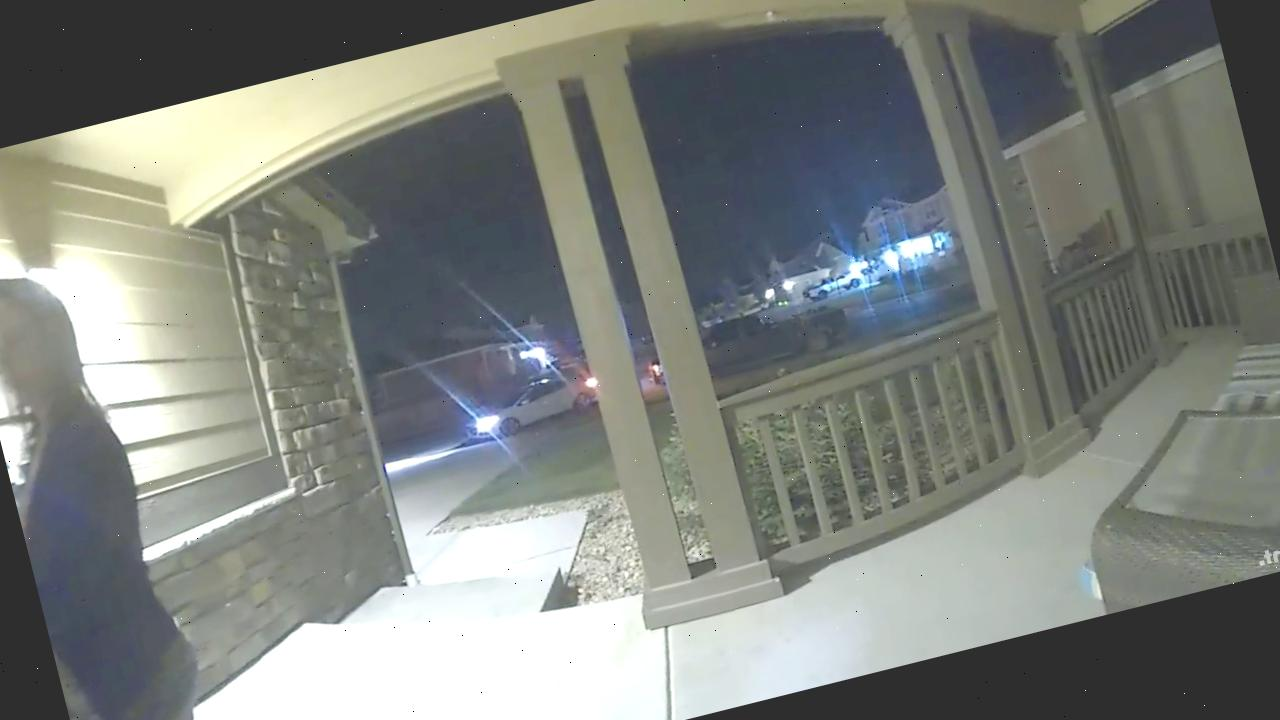suspicion: (0, 216, 313, 720)
